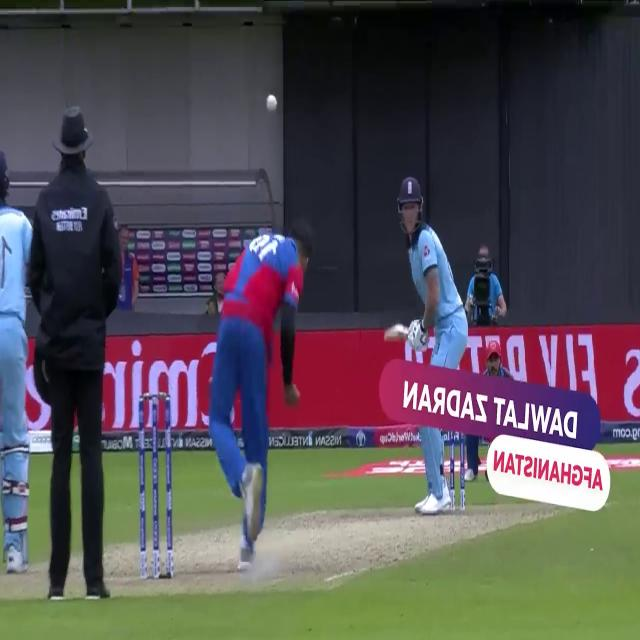ball: (262, 91, 280, 121)
